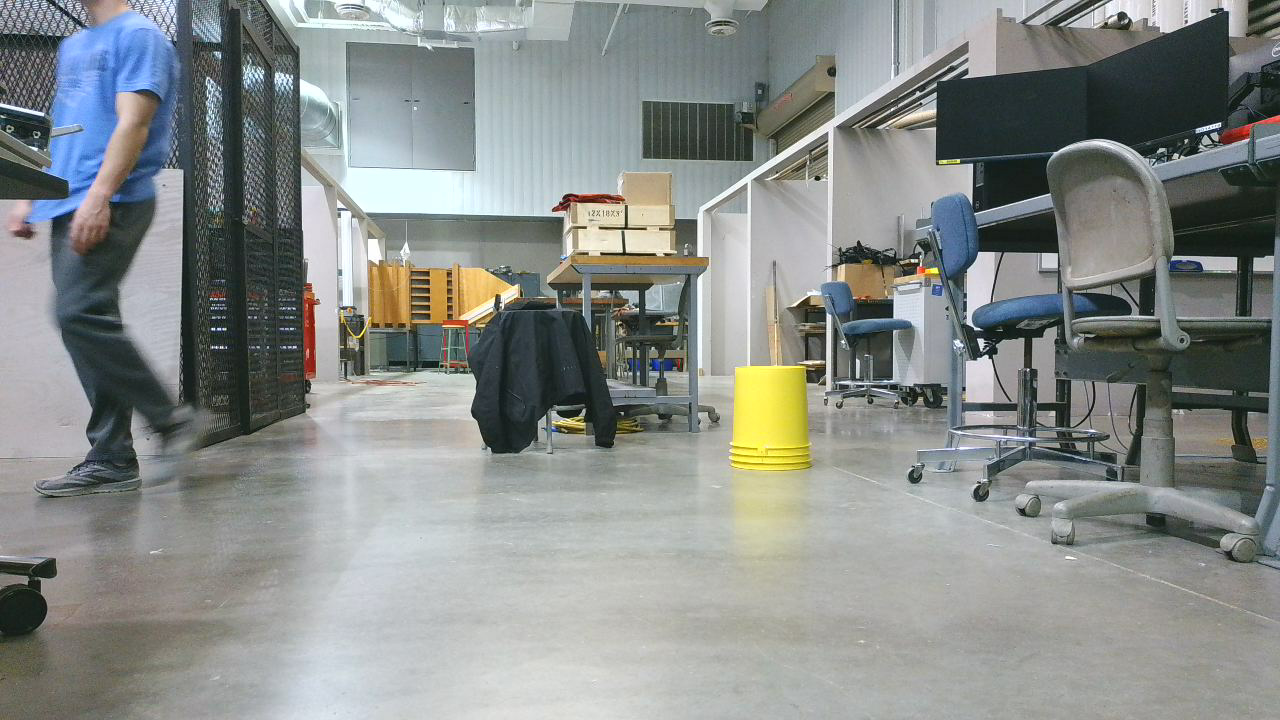yellow_bucket: (739, 373, 816, 475)
